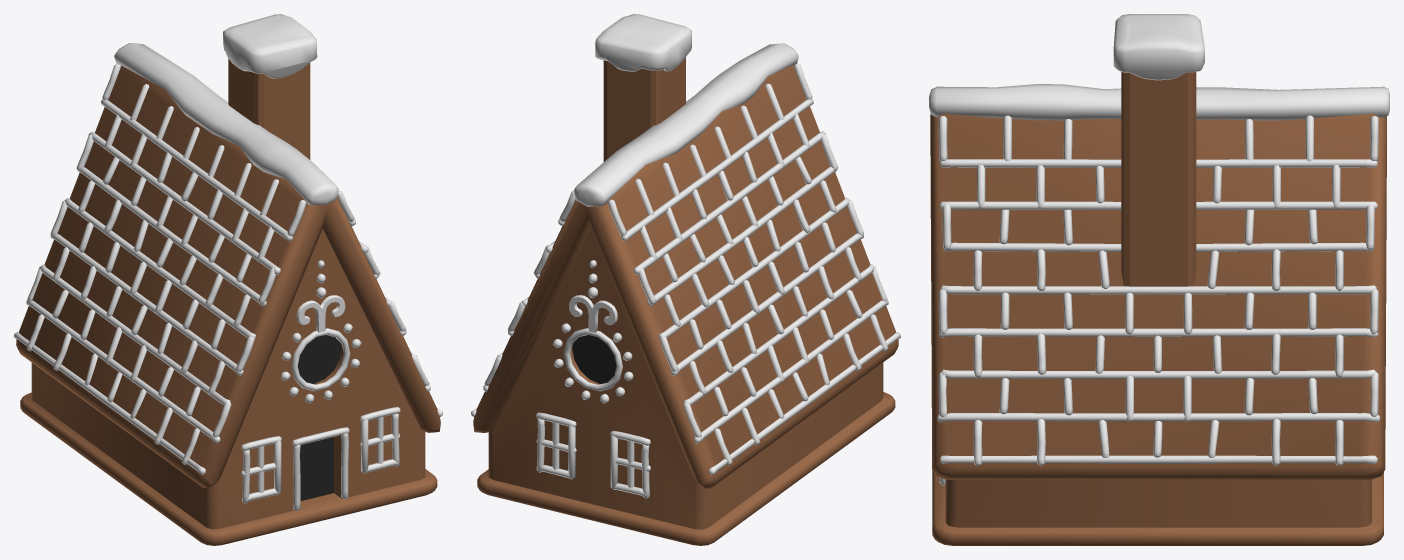
Rendered from GingerBreadHouse_03.fbx.
3 views of the same model, side by side, from view 1: azimuth 30°, elevation 25°; view 2: azimuth 150°, elevation 25°; view 3: azimuth 270°, elevation 25° (orthographic). The views are drawn at different scales.
Parts seen in each view (by area): view 1: GingerBreadHouse_03; view 2: GingerBreadHouse_03; view 3: GingerBreadHouse_03.
Part boxes in pixels (x1,y1,x2,y2): GingerBreadHouse_03: (14,14,442,545); GingerBreadHouse_03: (471,14,900,545); GingerBreadHouse_03: (929,14,1389,545).
Bounding box in the file's own units: 0.2453 × 0.3884 × 0.3398.
